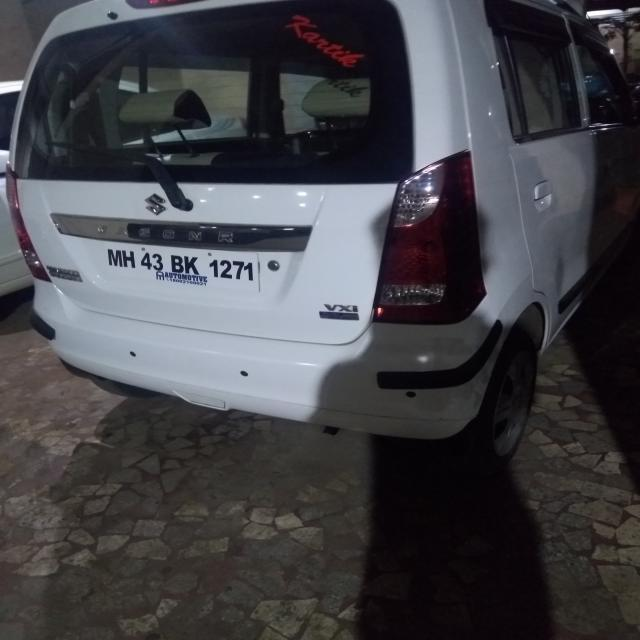Number-Plate: (106, 246, 267, 289)
